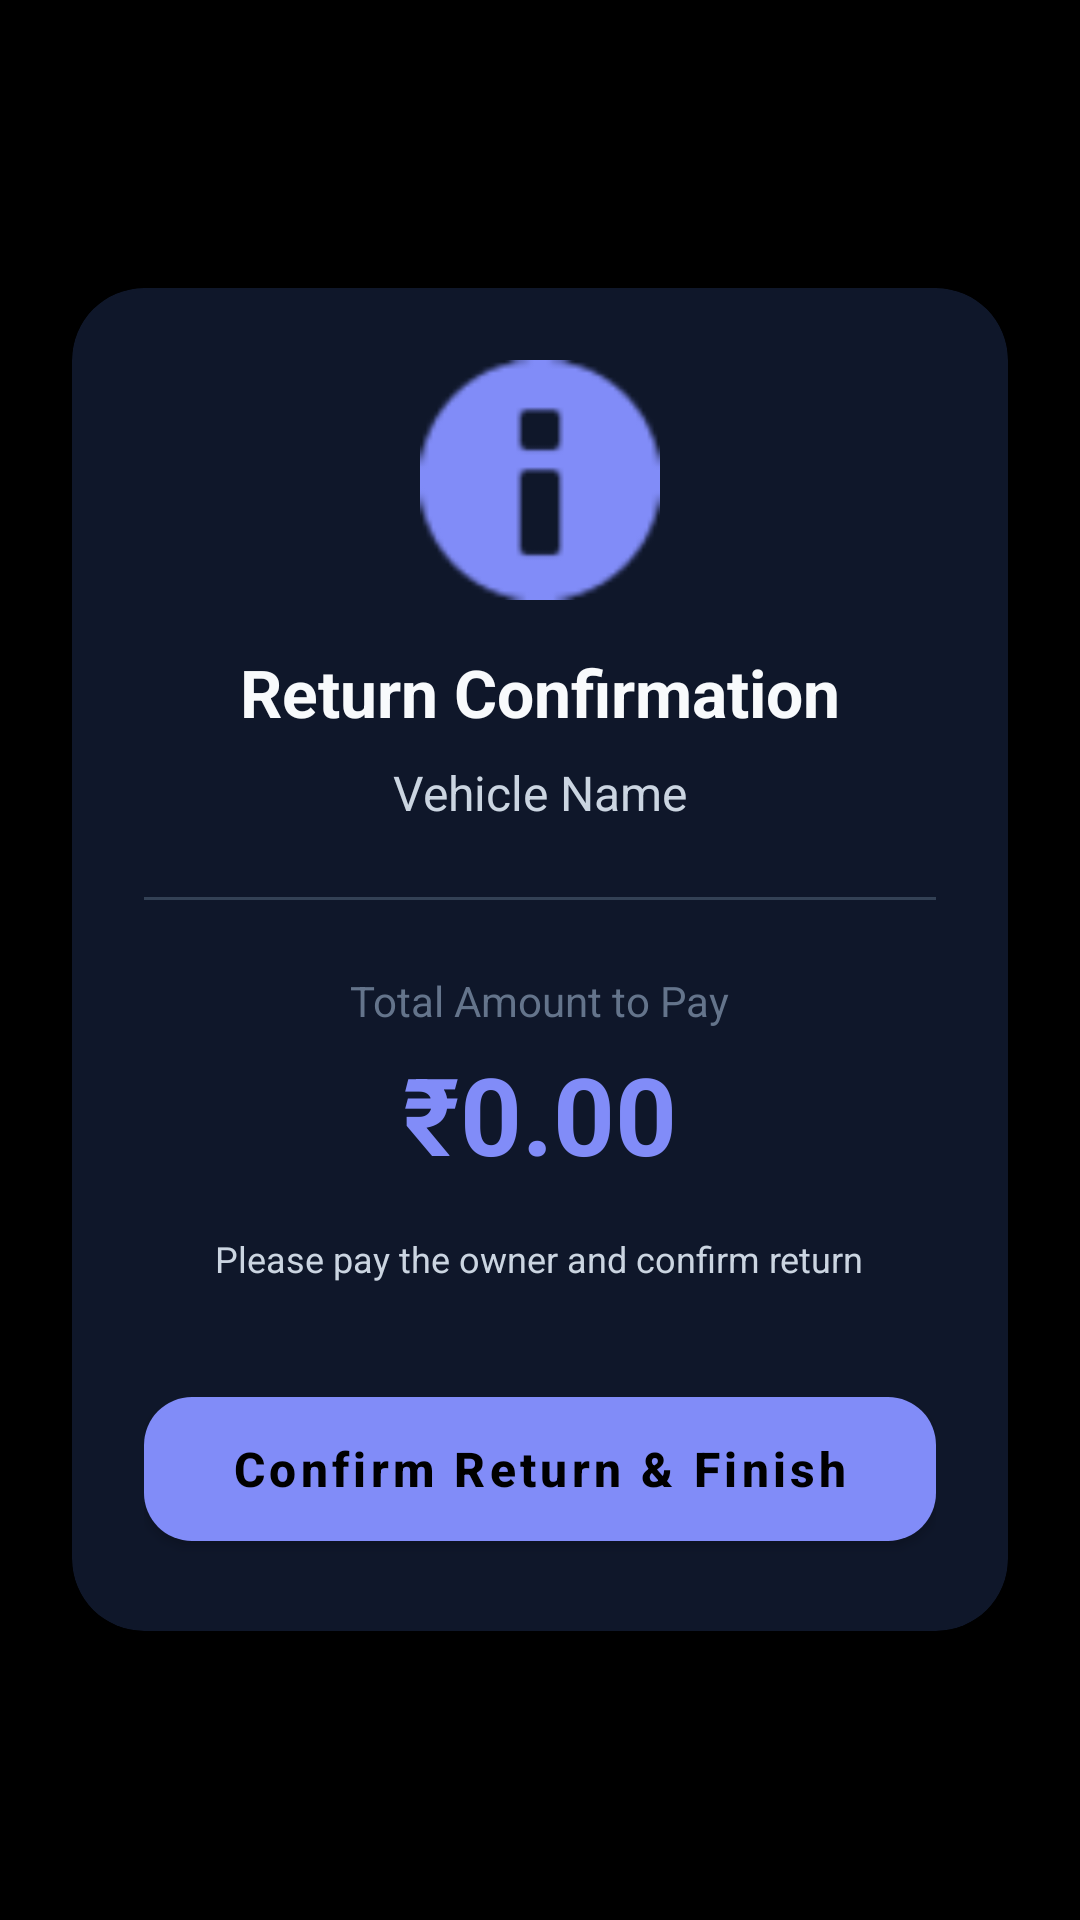

Icons on this 1080px×1920px Android screen, each with the point to tap as point (x, y):
info: point (540, 480)
